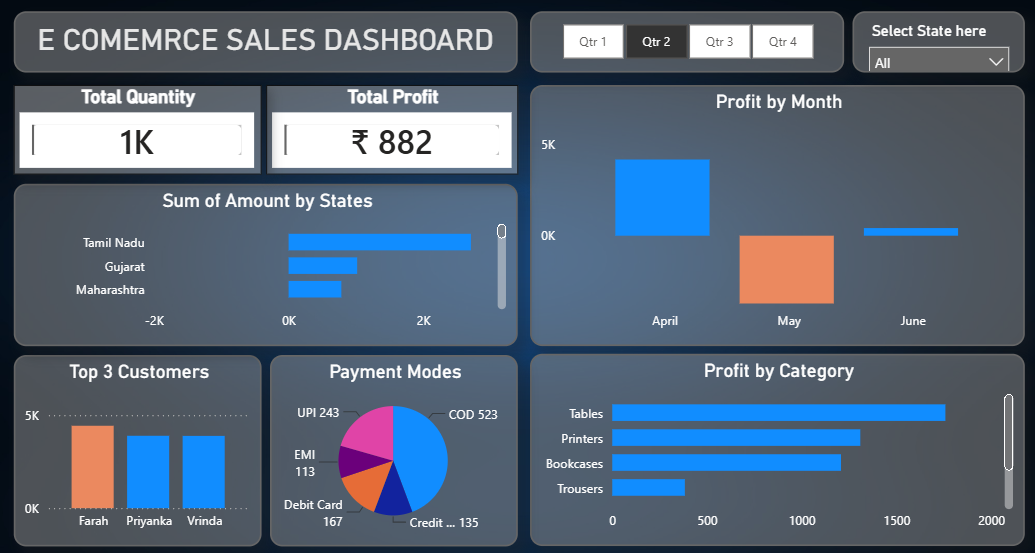

The dashboard page shown, as its layout file describes it:
{"tool":"powerbi","page":{"name":"Page 1","canvas":[1280,720],"ordinal":0},"visuals":[{"type":"columnChart","title":"Profit by Month","fields":{"Category":["Orders.Order Date.Variation.Date Hierarchy.Month"],"Y":["Sum(Details.Profit)"]},"box":[651.1,173.3,477.8,252.2],"z":0},{"type":"textbox","box":[153.3,102.2,486.7,58.9],"z":1000},{"type":"clusteredBarChart","title":"Profit by Category","fields":{"Y":["Sum(Details.Profit)"],"Category":["Details.Sub-Category"]},"box":[651.1,433.3,477.8,185.6],"z":2000},{"type":"columnChart","title":"Top 3 Customers","fields":{"Category":["Orders.CustomerName"],"Y":["Sum(Details.Amount)"]},"box":[153.3,434.4,238.9,184.4],"z":3000},{"type":"clusteredBarChart","title":"Sum of Amount by States","fields":{"Y":["Sum(Details.Profit)"],"Category":["Orders.State"]},"box":[153.3,268.9,486.7,156.7],"z":4000},{"type":"pieChart","title":"Payment Modes","fields":{"Y":["Sum(Details.Quantity)"],"Series":["Details.PaymentMode"]},"box":[401.1,434.4,238.9,184.4],"z":5000},{"type":"slicer","fields":{"Values":["Orders.Order Date.Variation.Date Hierarchy.Quarter"]},"box":[651.1,102.2,303.3,58.9],"z":6000},{"type":"cardVisual","title":"Total Profit","fields":{"Data":["Sum(Details.Profit)"]},"box":[396.7,173.3,243.3,86.7],"z":7000},{"type":"cardVisual","title":"Total Quantity","fields":{"Data":["Sum(Details.Quantity)"]},"box":[153.3,173.3,238.9,86.7],"z":8000},{"type":"slicer","fields":{"Values":["Orders.State"]},"box":[962.2,102.2,166.7,58.9],"z":9000}]}

Visuals, with their boxes on the page's 1280x720 design canvas (x1, y1, x2, y2). These are canvas units, not pixel positions in the 1035x553 screenshot, which may show the page scaled, cropped or inside an application window:
"Profit by Month" columnChart: [x1=651, y1=173, x2=1129, y2=426]
textbox: [x1=153, y1=102, x2=640, y2=161]
"Profit by Category" clusteredBarChart: [x1=651, y1=433, x2=1129, y2=619]
"Top 3 Customers" columnChart: [x1=153, y1=434, x2=392, y2=619]
"Sum of Amount by States" clusteredBarChart: [x1=153, y1=269, x2=640, y2=426]
"Payment Modes" pieChart: [x1=401, y1=434, x2=640, y2=619]
slicer - Orders.Order Date.Variation.Date Hierarchy.Quarter: [x1=651, y1=102, x2=954, y2=161]
"Total Profit" cardVisual: [x1=397, y1=173, x2=640, y2=260]
"Total Quantity" cardVisual: [x1=153, y1=173, x2=392, y2=260]
slicer - Orders.State: [x1=962, y1=102, x2=1129, y2=161]
